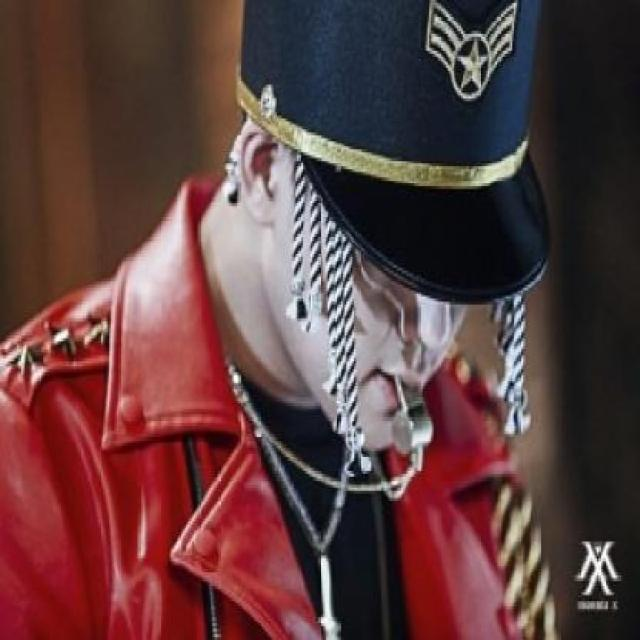hat: (238, 1, 552, 304)
